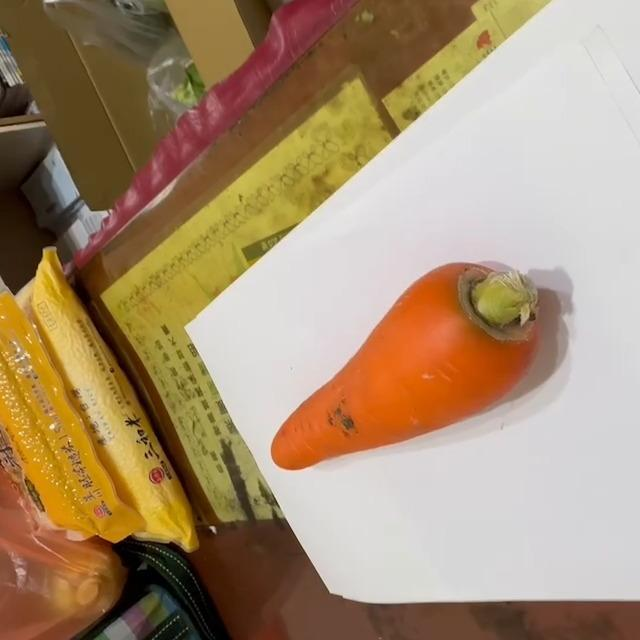carrot: (270, 263, 544, 472)
